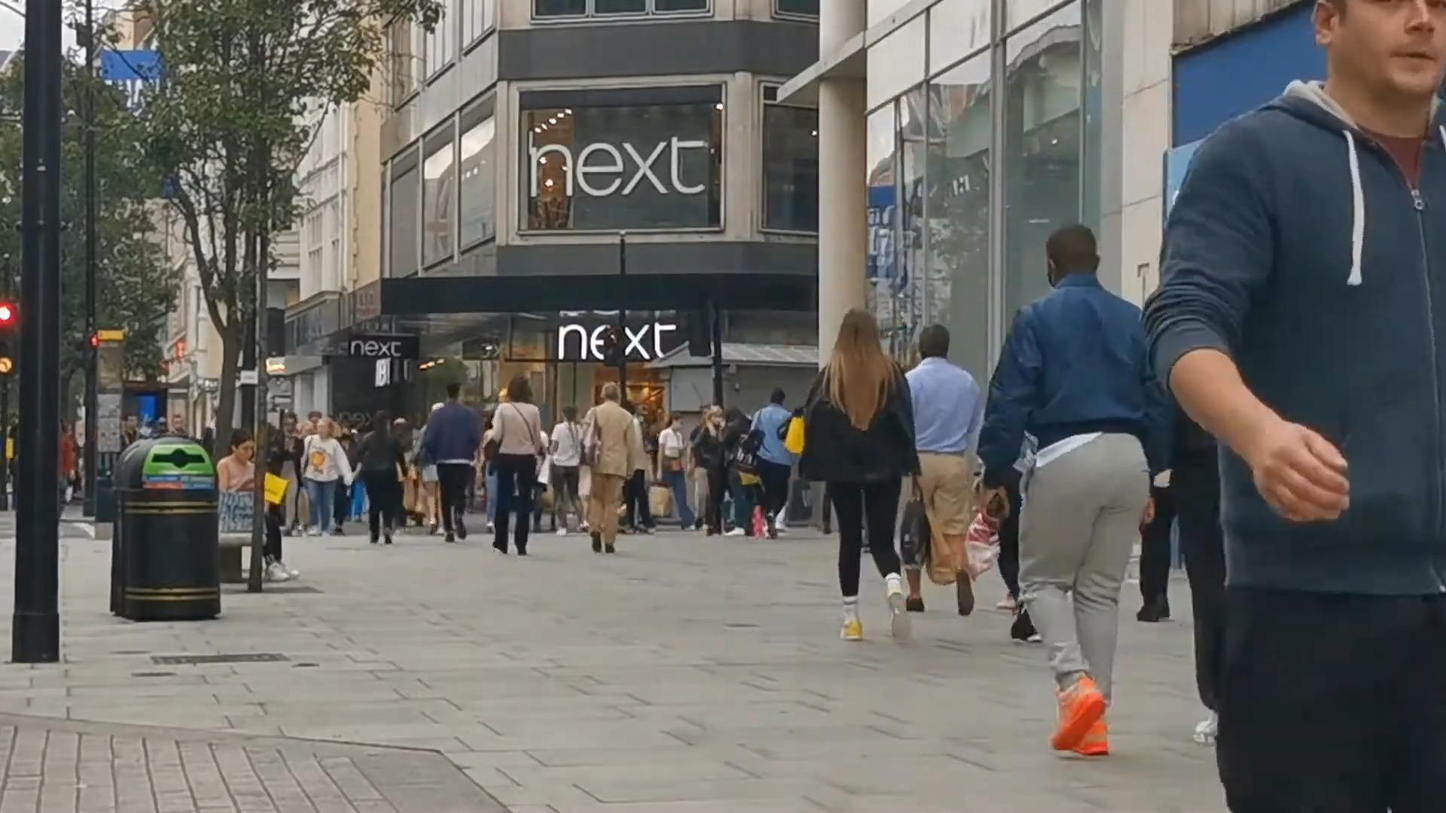no-helmet: (1046, 224, 1100, 289), (832, 308, 889, 367), (920, 325, 949, 363), (231, 427, 254, 465), (507, 376, 534, 405)
